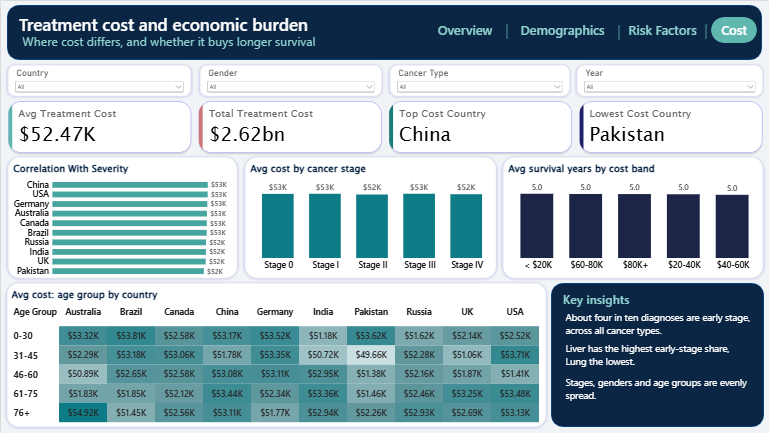

The page's visual inventory and layout, read from the dashboard file:
{"tool":"powerbi","page":{"name":"Cost","canvas":[1920,1080],"ordinal":3},"visuals":[{"type":"slicer","fields":{"Values":["CancerData.Country_Region"]},"box":[17.3,160,456.8,77.5],"z":0,"group":"g2"},{"type":"cardVisual","fields":{"Data":["_Measures.Avg Treatment Cost","_Measures.Total Treatment Cost","_Measures.Top Cost Country","_Measures.Lowest Cost Country"]},"box":[12,245,1897,140],"z":0},{"type":"shape","box":[15,10,1887.5,137.5],"z":1000,"group":"g1"},{"type":"slicer","fields":{"Values":["CancerData.Gender"]},"box":[496.7,160,454.3,77.5],"z":1000,"group":"g2"},{"type":"clusteredColumnChart","title":"Avg cost by cancer stage","fields":{"Category":["CancerData.Cancer_Stage"],"Y":["_Measures.Avg Treatment Cost"]},"box":[610,390,627.5,302.5],"z":1000},{"type":"slicer","fields":{"Values":["CancerData.Cancer_Type"]},"box":[971.1,160,449.3,77.5],"z":2000,"group":"g2"},{"type":"clusteredColumnChart","title":"Avg survival years by cost band","fields":{"Category":["CancerData.Cost Band"],"Y":["_Measures.Avg Survival Years"]},"box":[1255,390,650,302.5],"z":2000},{"type":"slicer","fields":{"Values":["CancerData.Year"]},"box":[1440.5,160,464.3,77.5],"z":3000,"group":"g2"},{"type":"pivotTable","title":"Avg cost: age group by country","fields":{"Columns":["CancerData.Country_Region"],"Rows":["CancerData.Age Group"],"Values":["_Measures.Avg Treatment Cost"]},"box":[15,705,1347.5,360],"z":3000},{"type":"group","id":"g1","title":"Group 1","box":[15,10,1887.5,137.5],"z":4000},{"type":"group","id":"g2","title":"Group 3","box":[17.3,160,1887.5,77.5],"z":5000},{"type":"actionButton","box":[1272.5,40,262.5,65],"z":6000},{"type":"actionButton","box":[1067.5,40,185,65],"z":7000},{"type":"shape","box":[1375.9,763.8,525.6,62.9],"z":7000,"group":"g3"},{"type":"shape","box":[31.3,65,755.5,70],"z":7001,"group":"g1"},{"type":"actionButton","box":[1555,40,197.5,65],"z":8000},{"type":"actionButton","box":[1775,40,115,65],"z":9000},{"type":"shape","box":[1207.5,57.5,115,37.5],"z":10000},{"type":"shape","box":[1705,57.5,115,37.5],"z":11000},{"type":"shape","box":[1487.5,60,115,37.5],"z":12000},{"type":"barChart","title":"Correlation With Severity","fields":{"Category":["CancerData.Country_Region"],"Y":["_Measures.Avg Treatment Cost"]},"box":[17.5,390,572.5,302.5],"z":13000},{"type":"group","id":"g3","title":"Group 2","box":[1375,705,532.5,360],"z":14000},{"type":"shape","box":[1375,705,532.5,360],"z":15000,"group":"g3"},{"type":"shape","box":[1375.8,764.8,523.8,83.2],"z":16000,"group":"g3"},{"type":"shape","box":[1375.8,843.6,523.8,83.2],"z":17000,"group":"g3"},{"type":"shape","box":[1375.8,926.9,523.8,83.2],"z":18000,"group":"g3"}]}

Visuals, with their boxes in screenshot pixels (x1, y1, x2, y2), scaled from the page's 1920x1080 canvas onto the 769x433 screenshot:
slicer - CancerData.Country_Region: (x1=7, y1=64, x2=190, y2=95)
cardVisual - _Measures.Avg Treatment Cost x _Measures.Total Treatment Cost: (x1=5, y1=98, x2=765, y2=154)
shape: (x1=6, y1=4, x2=762, y2=59)
slicer - CancerData.Gender: (x1=199, y1=64, x2=381, y2=95)
"Avg cost by cancer stage" clusteredColumnChart: (x1=244, y1=156, x2=496, y2=278)
slicer - CancerData.Cancer_Type: (x1=389, y1=64, x2=569, y2=95)
"Avg survival years by cost band" clusteredColumnChart: (x1=503, y1=156, x2=763, y2=278)
slicer - CancerData.Year: (x1=577, y1=64, x2=763, y2=95)
"Avg cost: age group by country" pivotTable: (x1=6, y1=283, x2=546, y2=427)
"Group 1" group: (x1=6, y1=4, x2=762, y2=59)
"Group 3" group: (x1=7, y1=64, x2=763, y2=95)
actionButton: (x1=510, y1=16, x2=615, y2=42)
actionButton: (x1=428, y1=16, x2=502, y2=42)
shape: (x1=551, y1=306, x2=762, y2=331)
shape: (x1=13, y1=26, x2=315, y2=54)
actionButton: (x1=623, y1=16, x2=702, y2=42)
actionButton: (x1=711, y1=16, x2=757, y2=42)
shape: (x1=484, y1=23, x2=530, y2=38)
shape: (x1=683, y1=23, x2=729, y2=38)
shape: (x1=596, y1=24, x2=642, y2=39)
"Correlation With Severity" barChart: (x1=7, y1=156, x2=236, y2=278)
"Group 2" group: (x1=551, y1=283, x2=764, y2=427)
shape: (x1=551, y1=283, x2=764, y2=427)
shape: (x1=551, y1=307, x2=761, y2=340)
shape: (x1=551, y1=338, x2=761, y2=372)
shape: (x1=551, y1=372, x2=761, y2=405)
